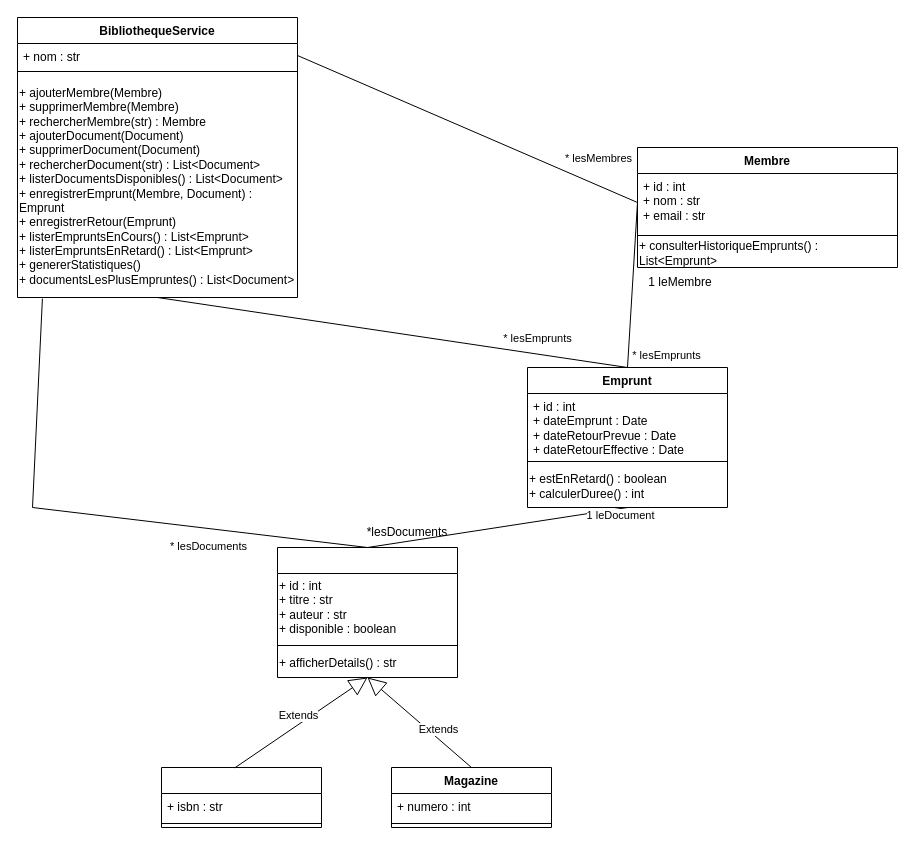
This 915x845 diagram has some shape labels left out. Here are the shapes that lost their labels. From the top down, the box of each, then its label:
(276, 546, 458, 678): Document (abstract)
(160, 766, 322, 828): Livre
